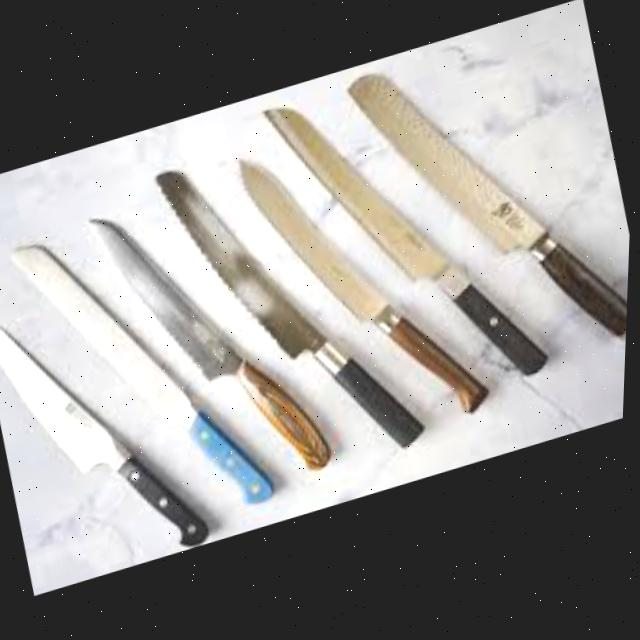Knife: (334, 13, 639, 415), (145, 110, 441, 511), (0, 185, 287, 565), (226, 100, 504, 475), (79, 161, 344, 527), (0, 271, 223, 598)
